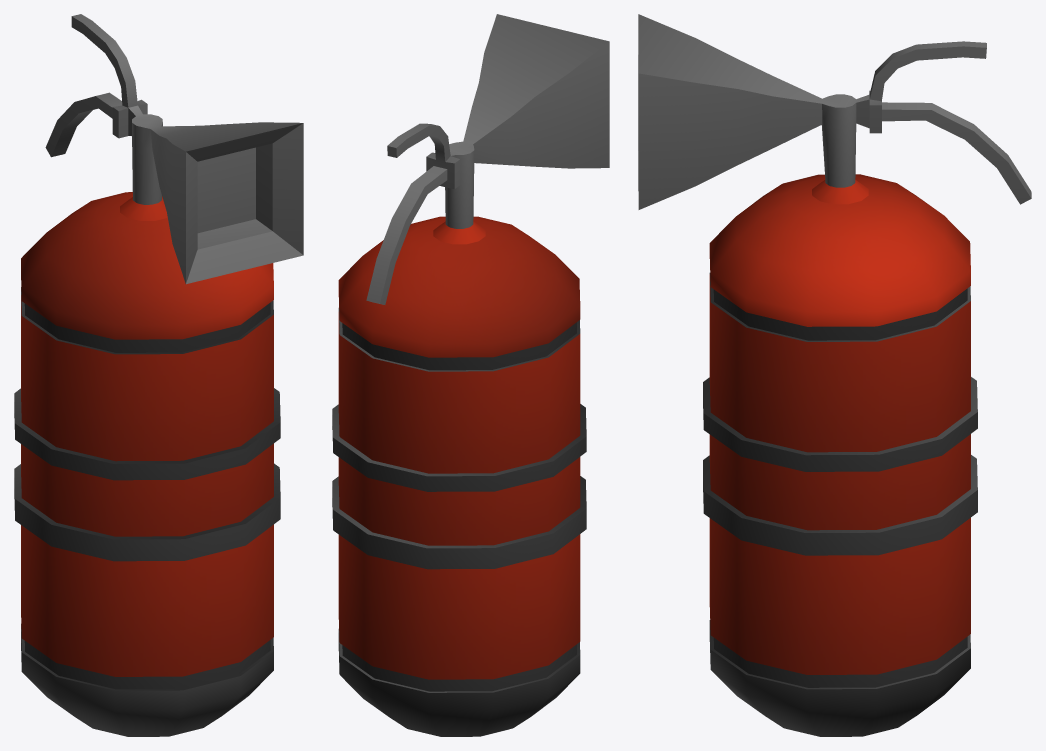
Rendered from extintor.fbx.
3 renders of one model, left to right at view 1: azimuth 30°, elevation 25°; view 2: azimuth 150°, elevation 25°; view 3: azimuth 270°, elevation 25°, orthographic. The views are drawn at different scales.
Visible parts, largest first — view 1: Extintor; view 2: Extintor; view 3: Extintor.
Boxes of the visible parts, x1,y1,x2,y2 form: Extintor: (14,14,303,736); Extintor: (332,14,609,736); Extintor: (638,14,1031,736).
Bounding box in the file's own units: 7.99 × 21.62 × 11.42.
